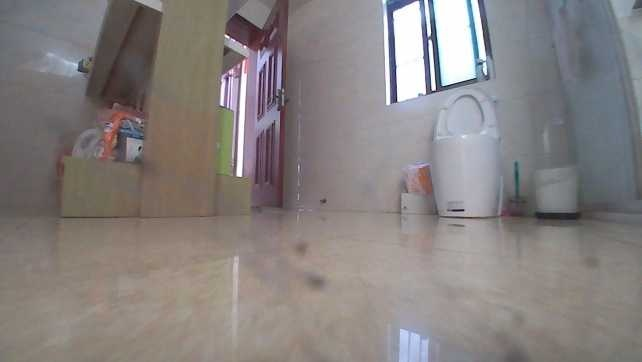door_anno: (242, 0, 290, 208)
toilet: (428, 83, 505, 218)
trash_can: (531, 163, 585, 221)
